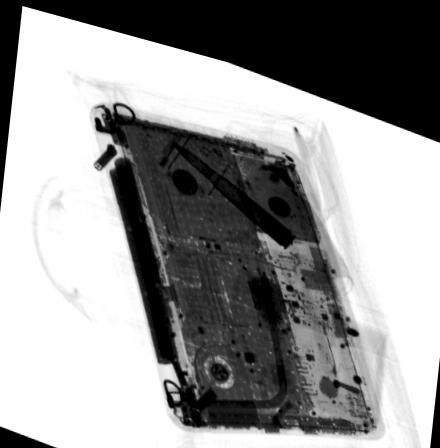Bullet: (169, 130, 297, 235)
